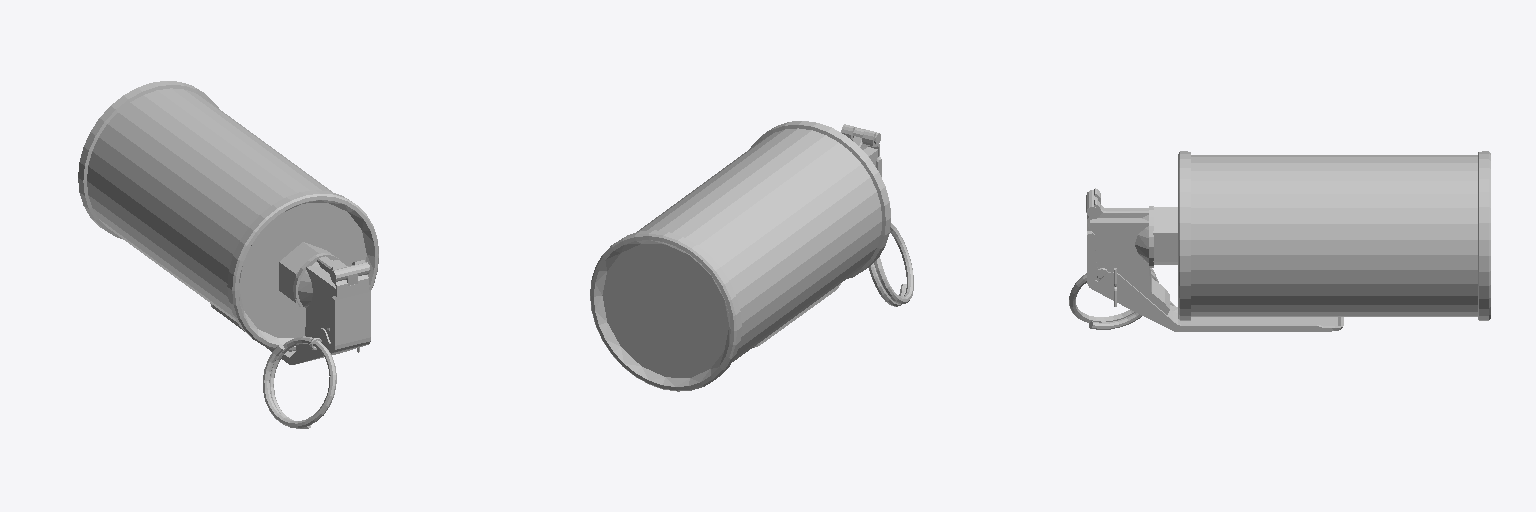
File: smokegrenade.obj
3 views of the same model, side by side, from view 1: azimuth 30°, elevation 25°; view 2: azimuth 150°, elevation 25°; view 3: azimuth 270°, elevation 25° (orthographic).
Visible parts, largest first — view 1: M18_Smoke_M18_Smoke_0; view 2: M18_Smoke_M18_Smoke_0; view 3: M18_Smoke_M18_Smoke_0.
Boxes of the visible parts, x1,y1,x2,y2 form: M18_Smoke_M18_Smoke_0: [78, 81, 378, 428]; M18_Smoke_M18_Smoke_0: [590, 121, 913, 391]; M18_Smoke_M18_Smoke_0: [1069, 151, 1490, 331].
Size of the model in its own units: 6.14 by 7.73 by 15.28.